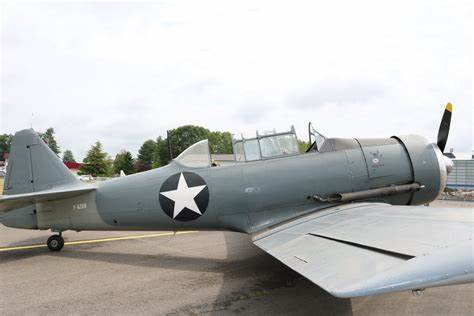Aeronef_militaire: (1, 95, 474, 306)
